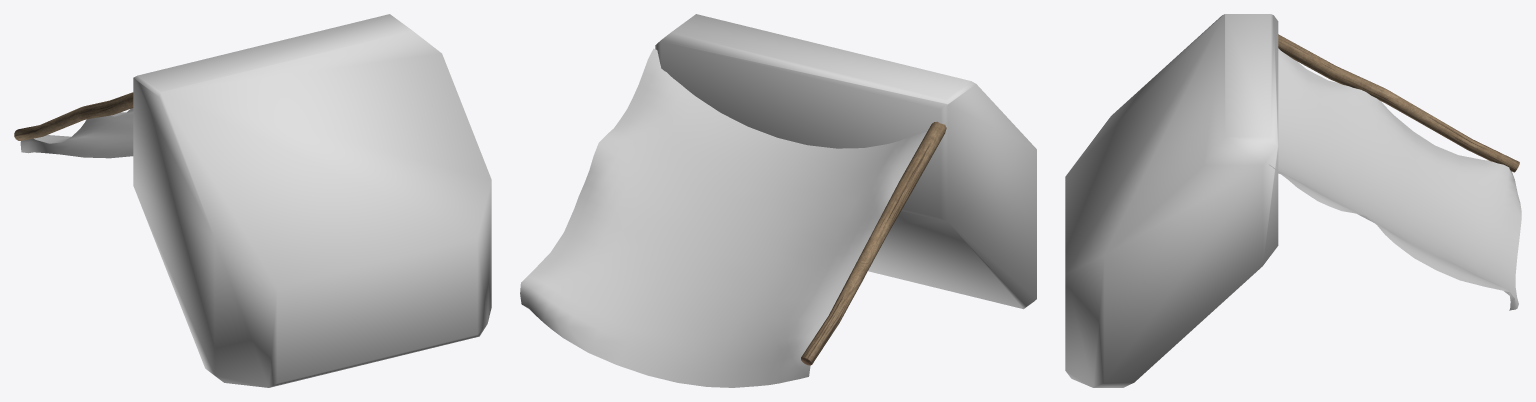
The model's file is SM_Canopy_B.fbx.
The picture shows the model from 3 angles, left to right: view 1: azimuth 30°, elevation 25°; view 2: azimuth 150°, elevation 25°; view 3: azimuth 270°, elevation 25°; orthographic projection. The views are drawn at different scales.
Parts seen in each view (by area): view 1: SM_Canopy_B_ConvexHulls, SM_Canopy_B; view 2: SM_Canopy_B, SM_Canopy_B_ConvexHulls; view 3: SM_Canopy_B_ConvexHulls, SM_Canopy_B.
Part boxes in pixels (x1,y1,x2,y2): SM_Canopy_B_ConvexHulls: [133, 14, 491, 387]; SM_Canopy_B: [14, 92, 133, 158]; SM_Canopy_B: [520, 48, 946, 387]; SM_Canopy_B_ConvexHulls: [655, 14, 1036, 309]; SM_Canopy_B_ConvexHulls: [1065, 14, 1278, 387]; SM_Canopy_B: [1269, 34, 1521, 310].
Size of the model in its own units: 1.54 by 1.33 by 2.23.
